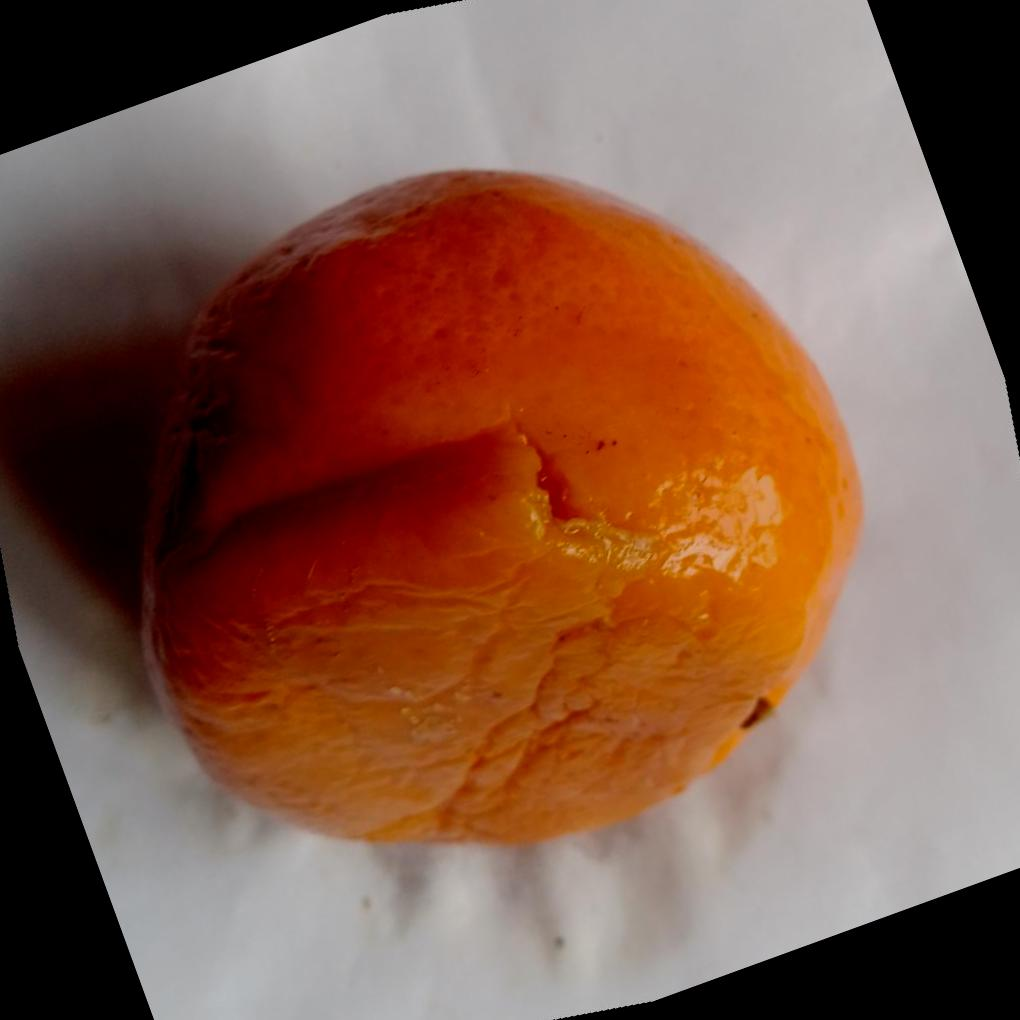FreshOrange: (137, 161, 864, 848)
